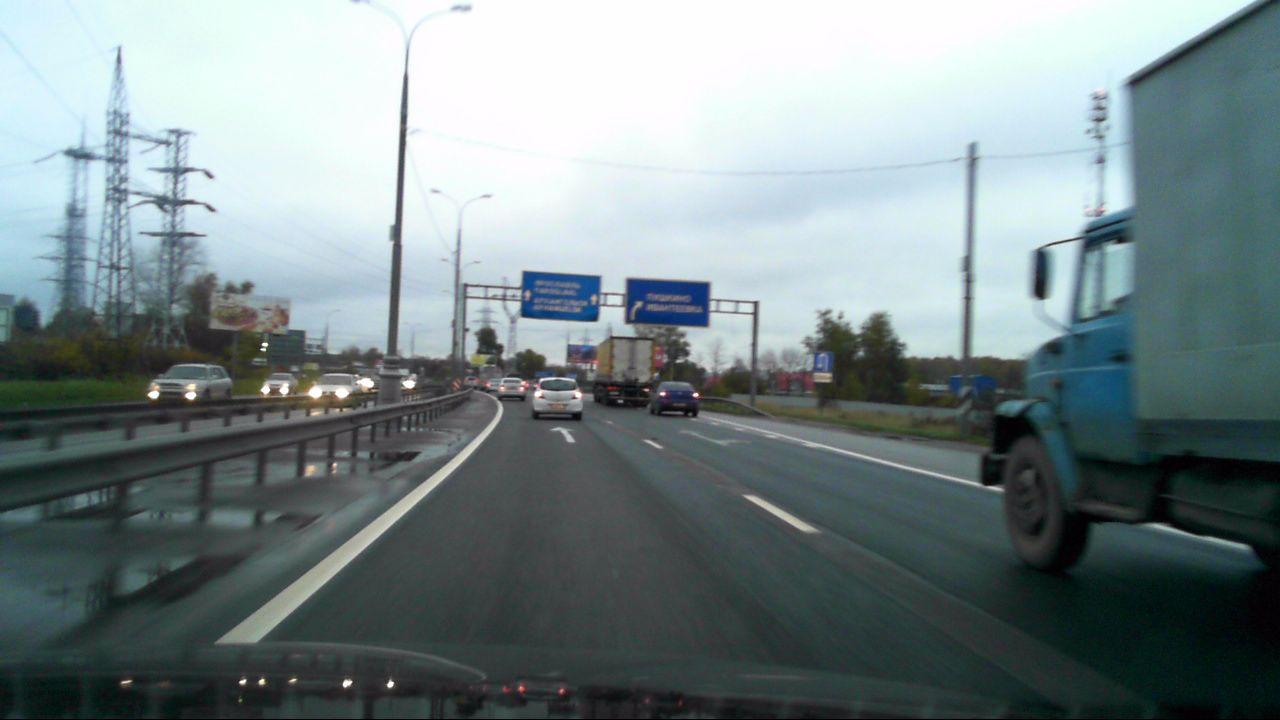U-turn: (814, 352, 833, 372)
